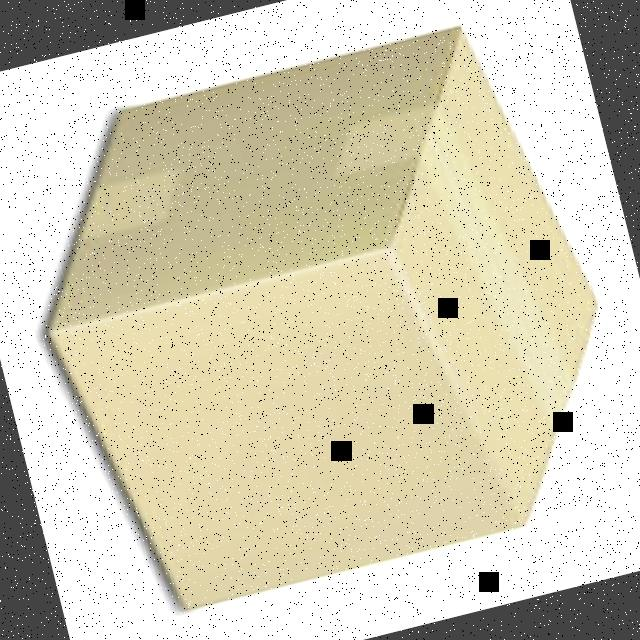cardboard_box: (0, 7, 640, 632)
